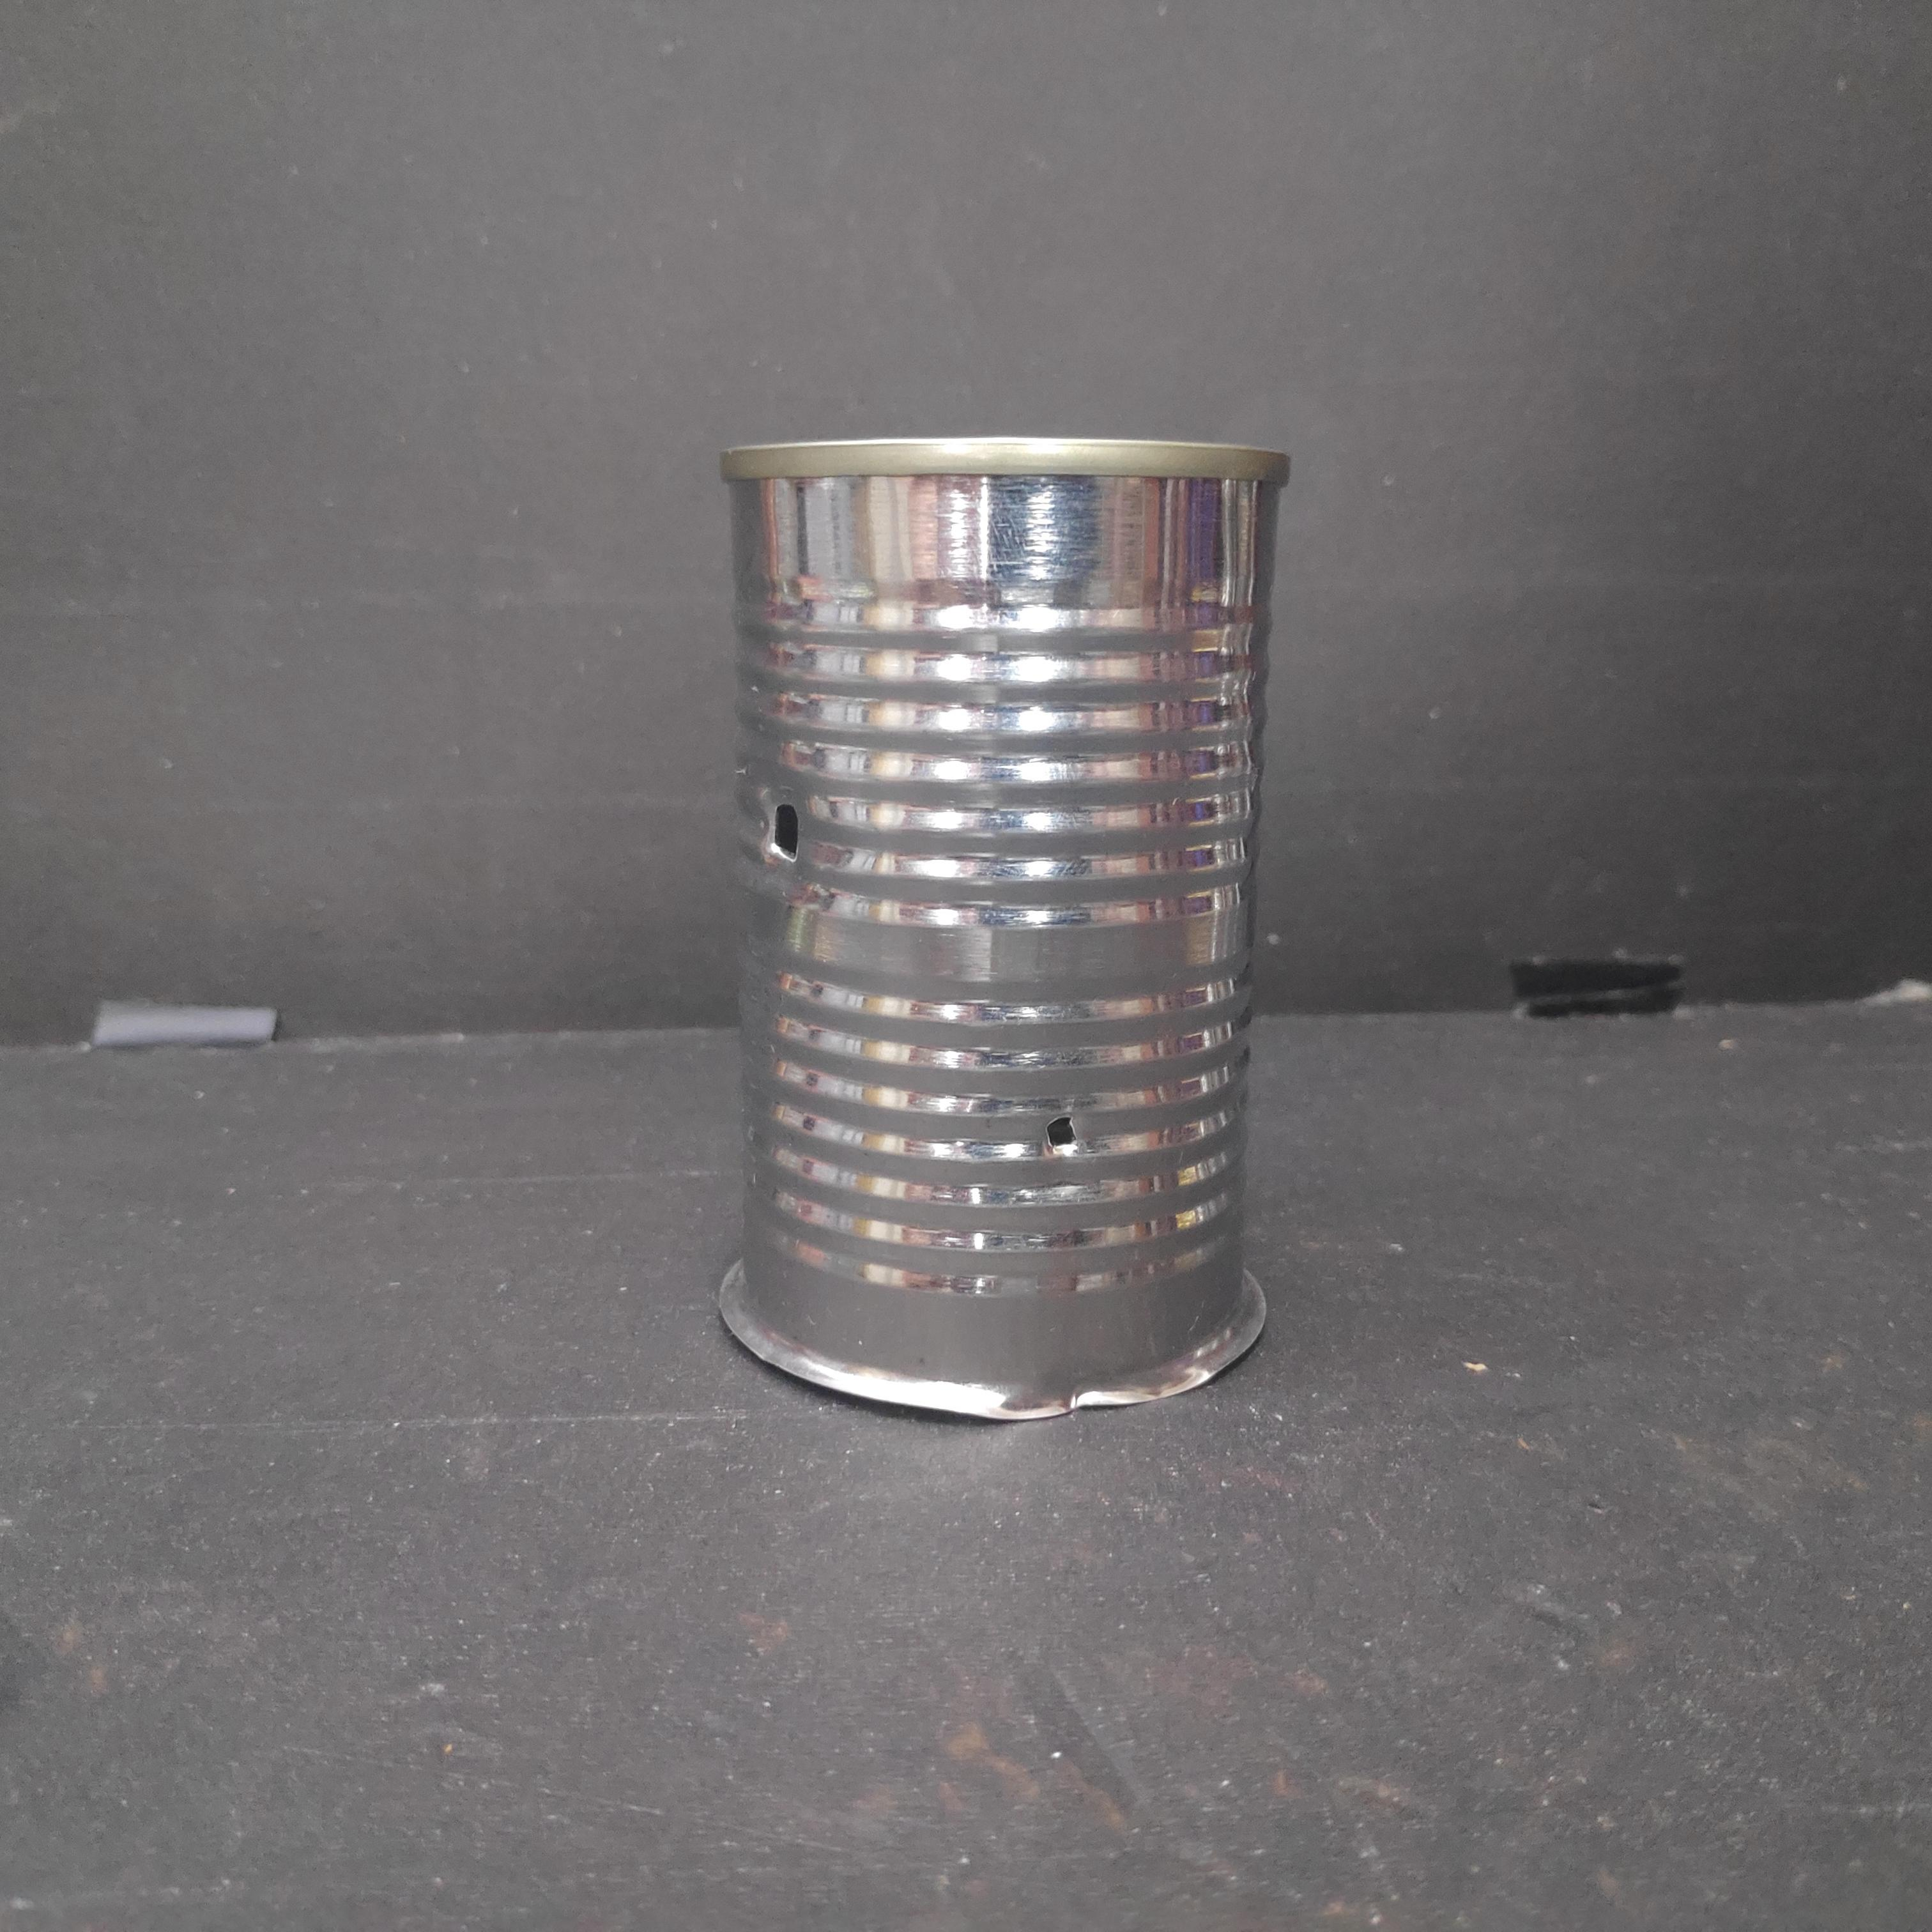Critical Defect: (713, 423, 1302, 1431)
